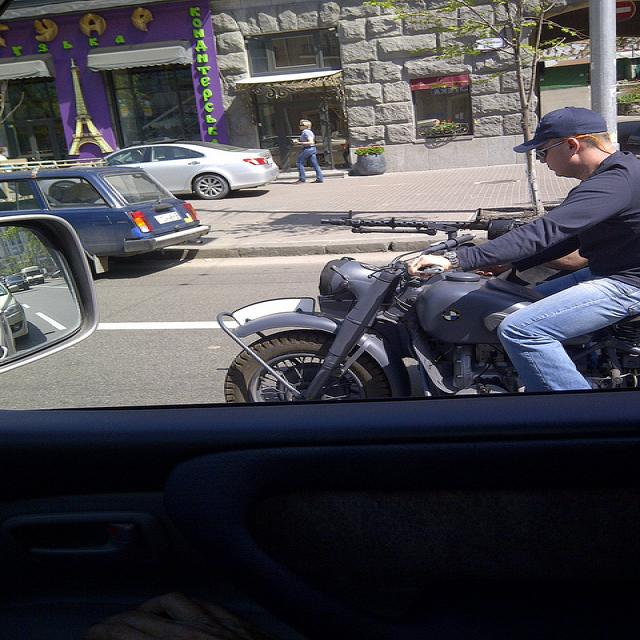motor: (218, 231, 640, 403)
